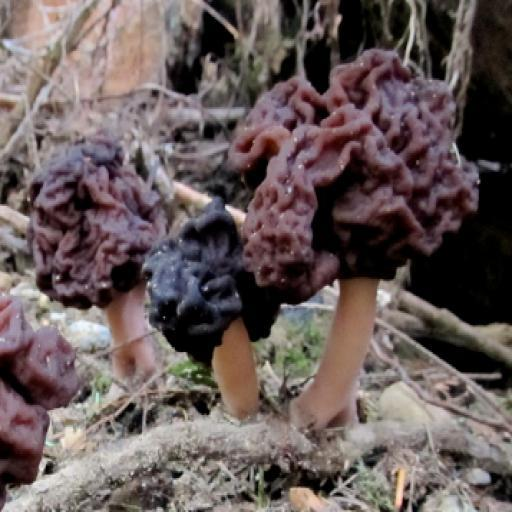mushroom: (193, 30, 500, 320), (113, 195, 318, 437), (28, 131, 167, 381)
